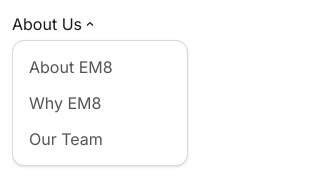
Test case: NavDropdown, a parent with no destination (synthetic fixture) › closes when a child is followed, and reports it
Click the button "About Us": [53, 24] box [12, 12, 94, 36]
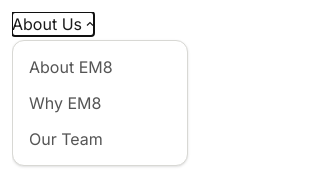
Click the link "Our Team": [66, 139] box [29, 129, 103, 149]
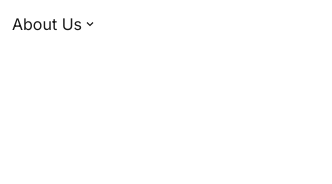
Check: the button "About Us" is collapsed, box [12, 12, 94, 36]
